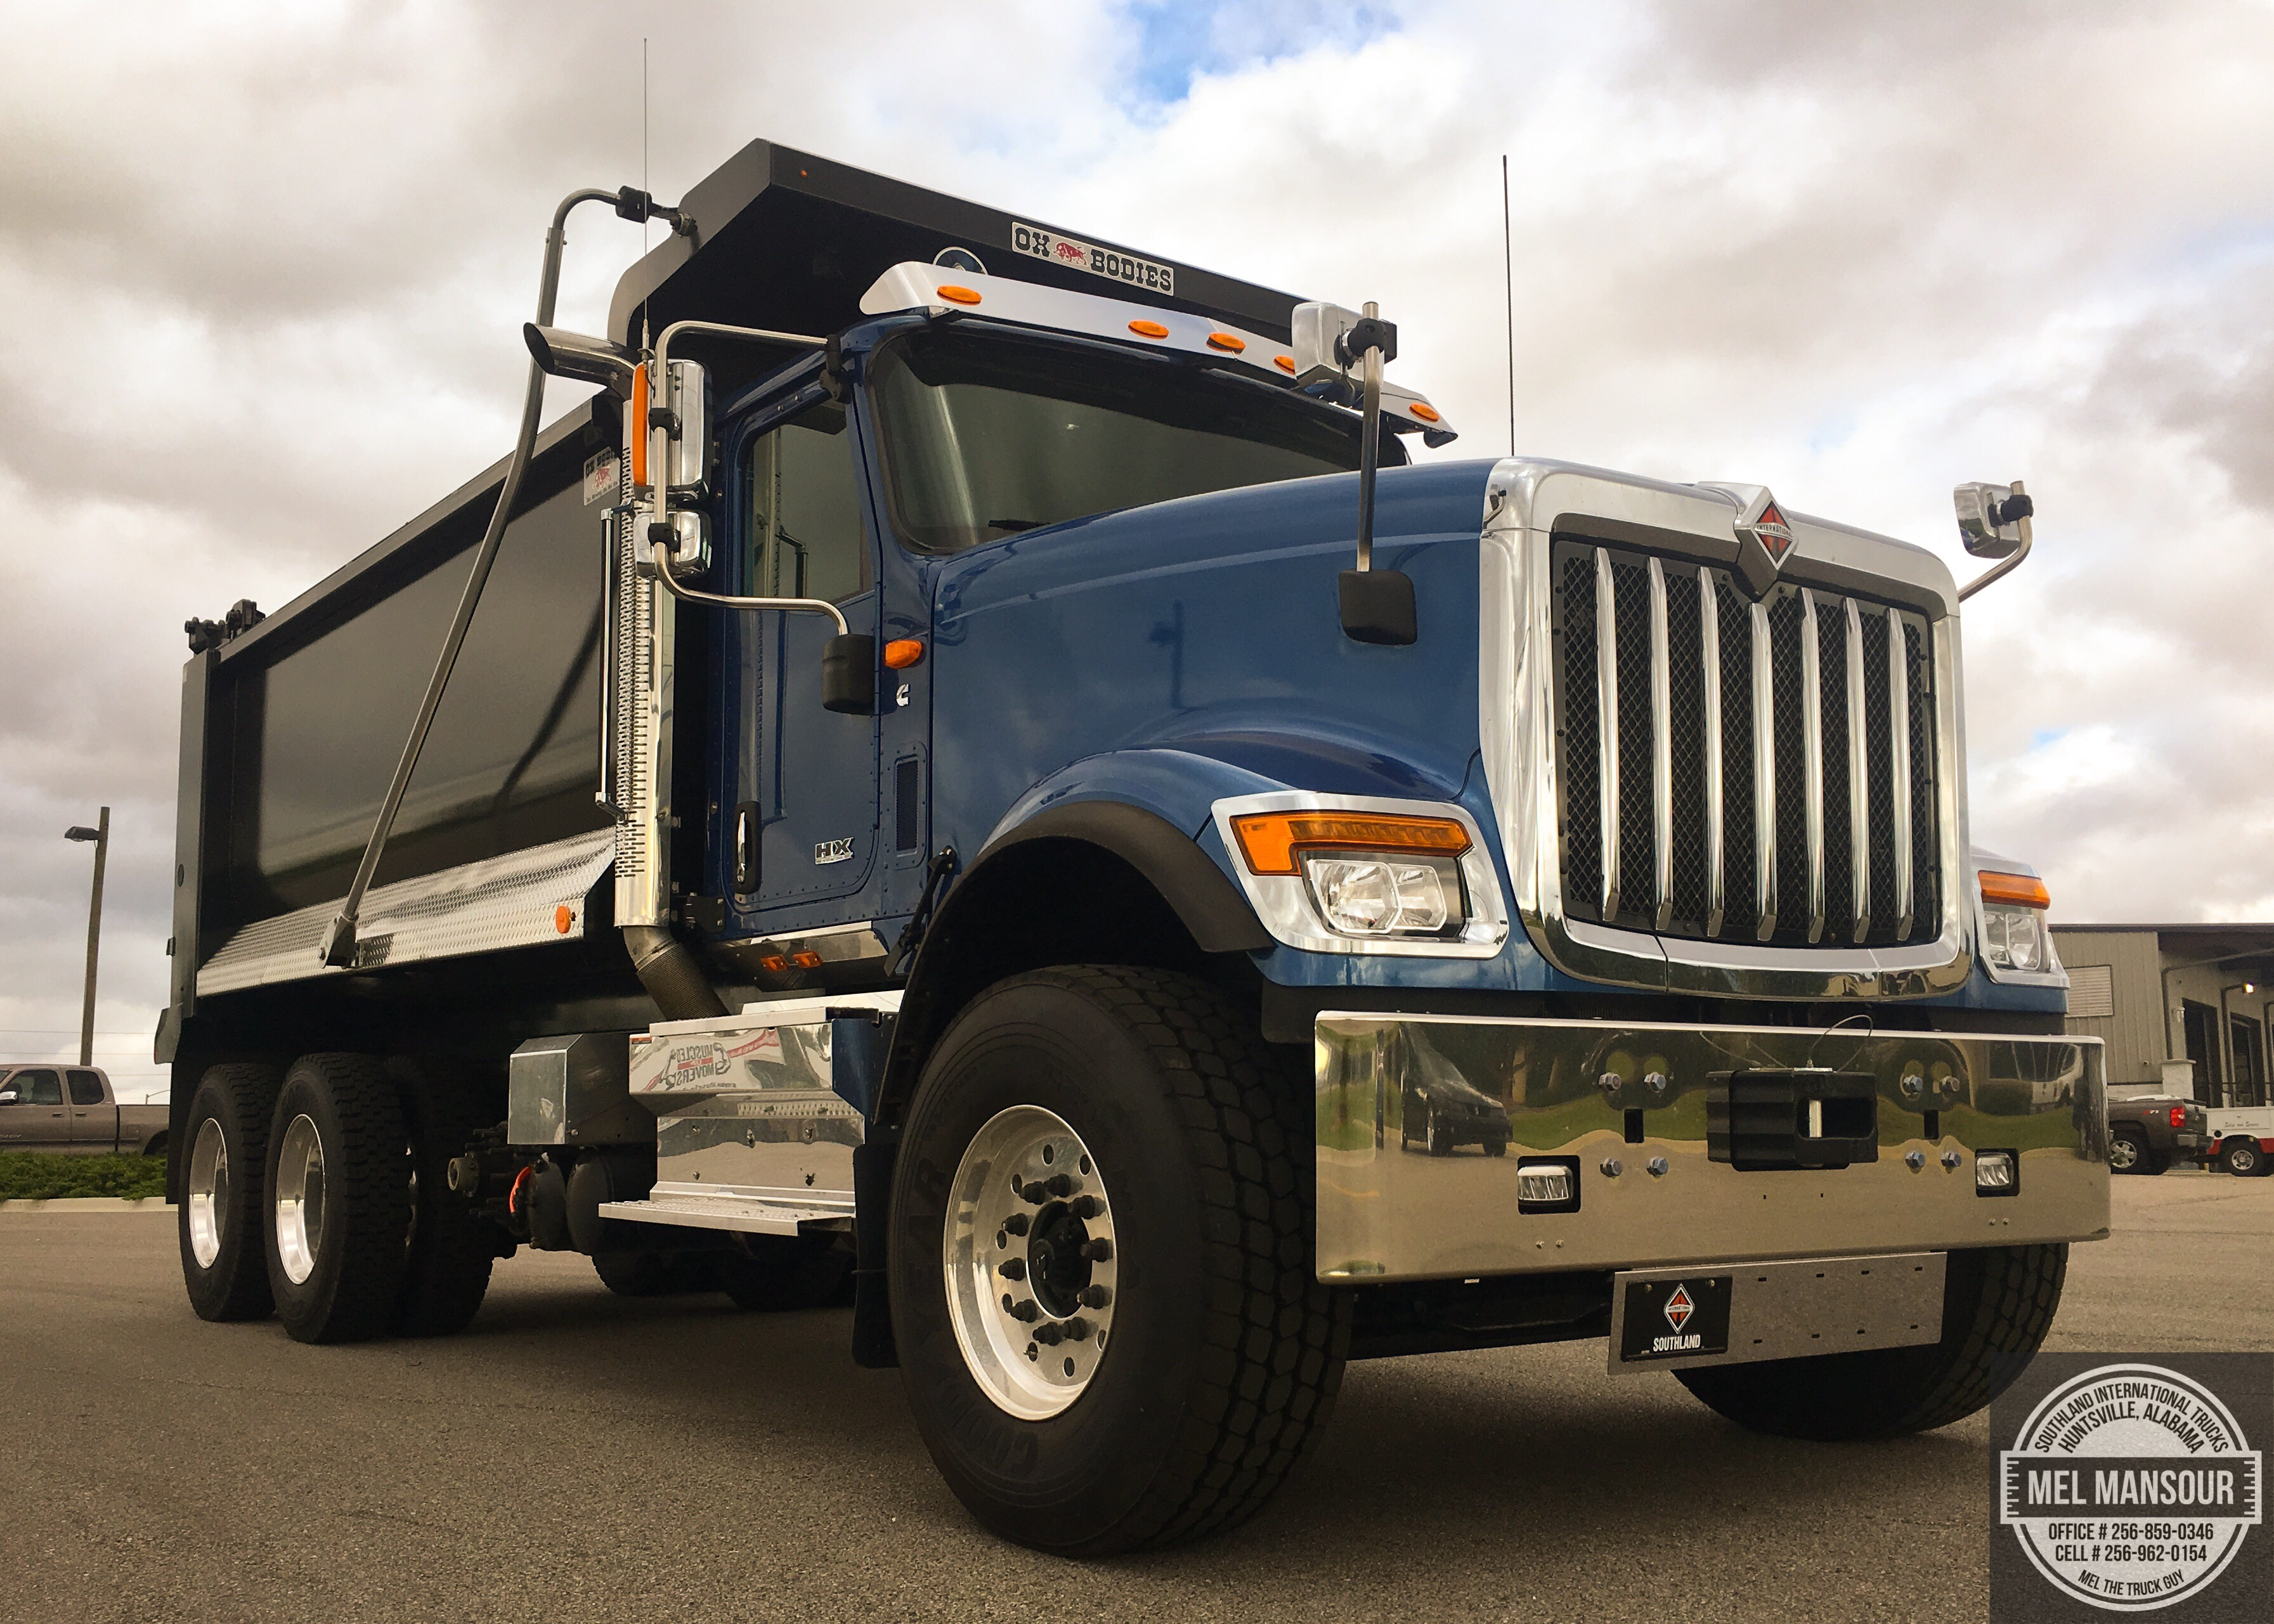truck: (130, 123, 2111, 1584)
